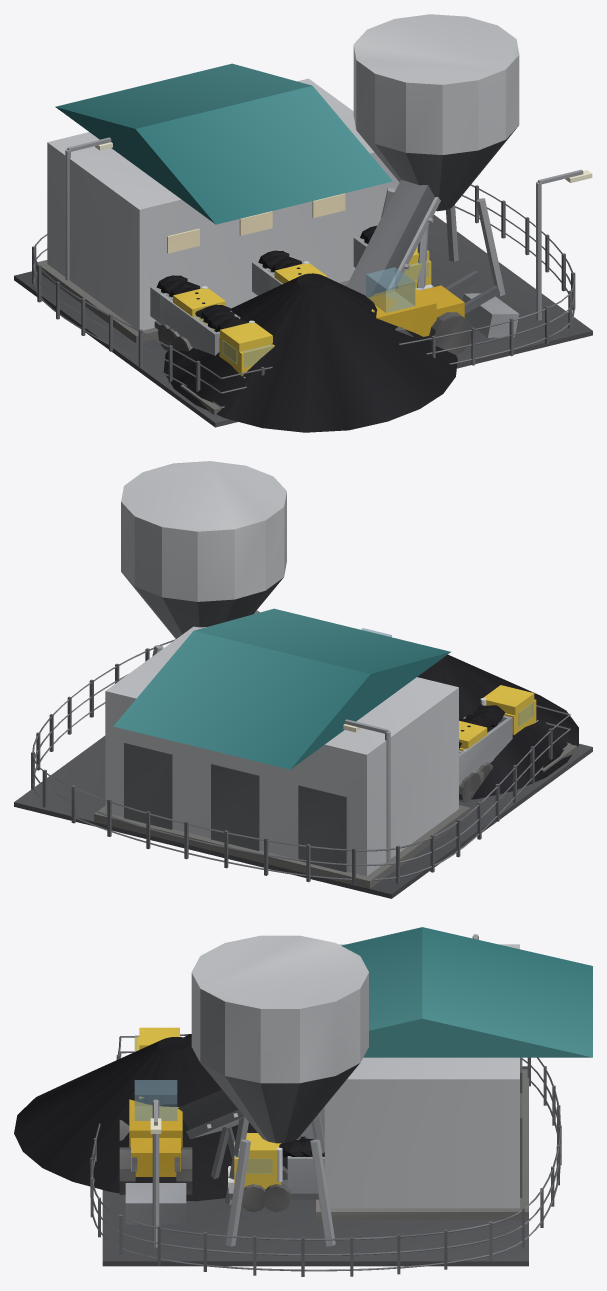
The model's file is Haul_P3.fbx.
The picture shows the model from 3 angles, top to bottom: view 1: azimuth 30°, elevation 25°; view 2: azimuth 150°, elevation 25°; view 3: azimuth 270°, elevation 25°; orthographic projection. The views are drawn at different scales.
Parts seen in each view (by area): view 1: Haul.Workshop, Haul.Stock, Haul.Hopper, Haul.Yard, Haul.Loader, Haul.Fence, Haul.Conv, Haul.Parked3, Haul.Parked0, Haul.Parked1, Haul.Lamp0, Haul.Parked2 (+1 smaller); view 2: Haul.Workshop, Haul.Hopper, Haul.Yard, Haul.Fence, Haul.Stock, Haul.Parked3, Haul.Lamp1, Haul.Parked0; view 3: Haul.Workshop, Haul.Hopper, Haul.Yard, Haul.Stock, Haul.Loader, Haul.Fence, Haul.Parked2, Haul.Conv, Haul.Lamp0, Haul.Parked3.
Boxes of the visible parts, x1,y1,x2,y2 form: Haul.Workshop: (36, 63, 399, 343); Haul.Stock: (163, 273, 457, 432); Haul.Hopper: (353, 14, 519, 296); Haul.Yard: (14, 215, 592, 427); Haul.Loader: (366, 267, 519, 355); Haul.Fence: (32, 184, 575, 408); Haul.Conv: (346, 179, 440, 296); Haul.Parked3: (158, 281, 274, 378); Haul.Parked0: (150, 275, 225, 351); Haul.Parked1: (252, 250, 327, 295); Haul.Lamp0: (536, 169, 592, 320); Haul.Parked2: (353, 225, 433, 290); Haul.Workshop: (94, 608, 470, 888); Haul.Hopper: (121, 461, 286, 656); Haul.Yard: (14, 736, 592, 898); Haul.Fence: (31, 639, 570, 885); Haul.Stock: (417, 654, 578, 799); Haul.Parked3: (459, 685, 538, 802); Haul.Lamp1: (343, 719, 390, 862); Haul.Parked0: (459, 720, 490, 798); Haul.Workshop: (316, 927, 592, 1219); Haul.Hopper: (191, 935, 368, 1246); Haul.Yard: (102, 1066, 528, 1266); Haul.Stock: (14, 1037, 305, 1201); Haul.Loader: (119, 1080, 192, 1224); Haul.Fence: (90, 1034, 561, 1276); Haul.Parked2: (228, 1133, 324, 1212); Haul.Conv: (178, 1090, 244, 1179); Haul.Lamp0: (150, 1099, 161, 1247); Haul.Parked3: (134, 1027, 191, 1051).
Bounding box in the file's own units: 2895 × 1598 × 3259.
